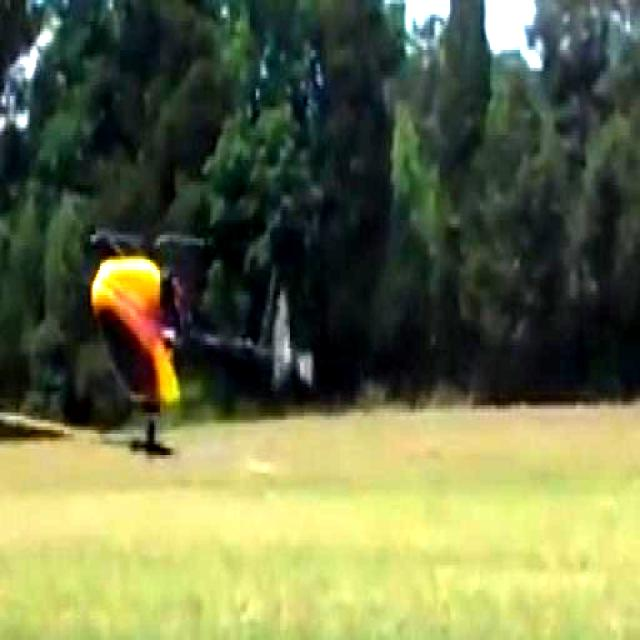drone: (0, 211, 331, 480)
